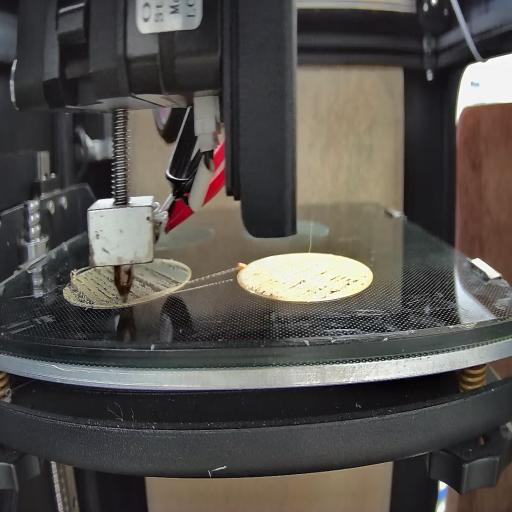under_extrusion: (283, 273, 362, 301), (64, 262, 111, 304), (134, 265, 190, 295), (238, 276, 276, 302)
